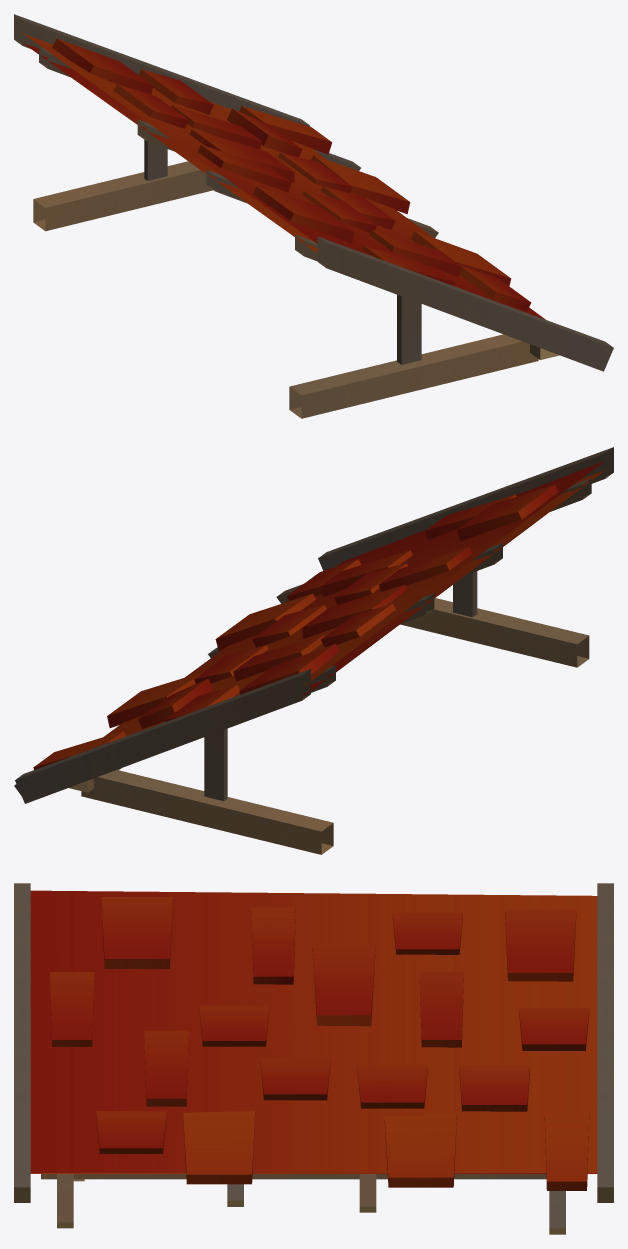
File: Shed_4.fbx
The picture shows the model from 3 angles, top to bottom: view 1: azimuth 30°, elevation 25°; view 2: azimuth 150°, elevation 25°; view 3: azimuth 270°, elevation 25°; orthographic projection. The views are drawn at different scales.
Visible parts, largest first — view 1: polySurface9190; view 2: polySurface9190; view 3: polySurface9190.
Boxes of the visible parts, x1,y1,x2,y2 form: polySurface9190: (14, 14, 613, 418); polySurface9190: (14, 447, 613, 854); polySurface9190: (14, 883, 613, 1234).
Bounding box in the file's own units: 239 × 158 × 411.
